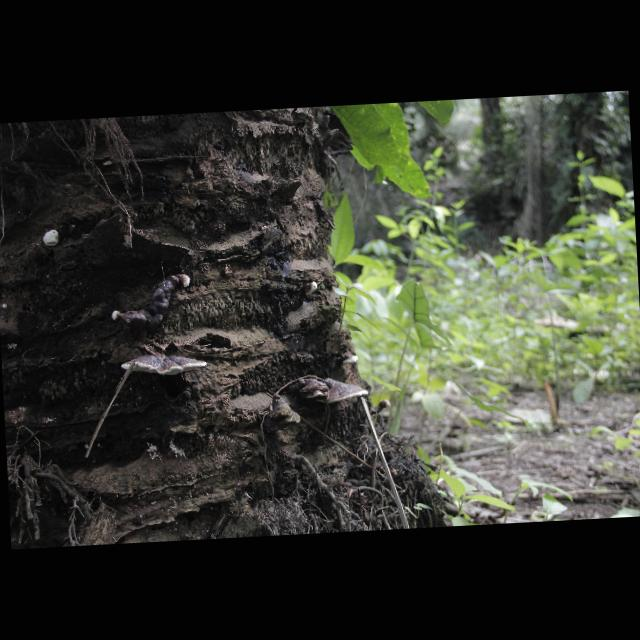ganoderma: (120, 276, 179, 333), (122, 352, 209, 380), (315, 378, 370, 407), (290, 377, 331, 400), (337, 354, 360, 366)
primordium: (43, 230, 62, 248), (302, 282, 319, 298), (177, 274, 192, 291), (379, 400, 392, 411), (112, 311, 123, 323), (3, 304, 10, 312)
